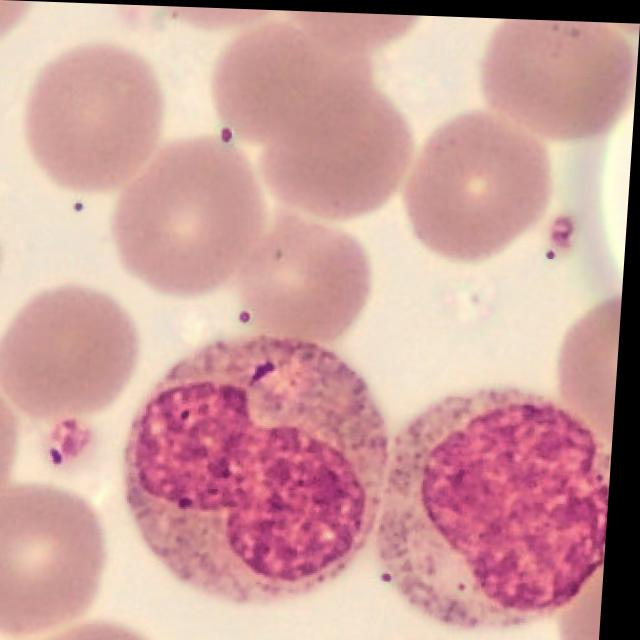Metamielocito: (131, 332, 393, 603)
Mielocito: (381, 385, 617, 624)
